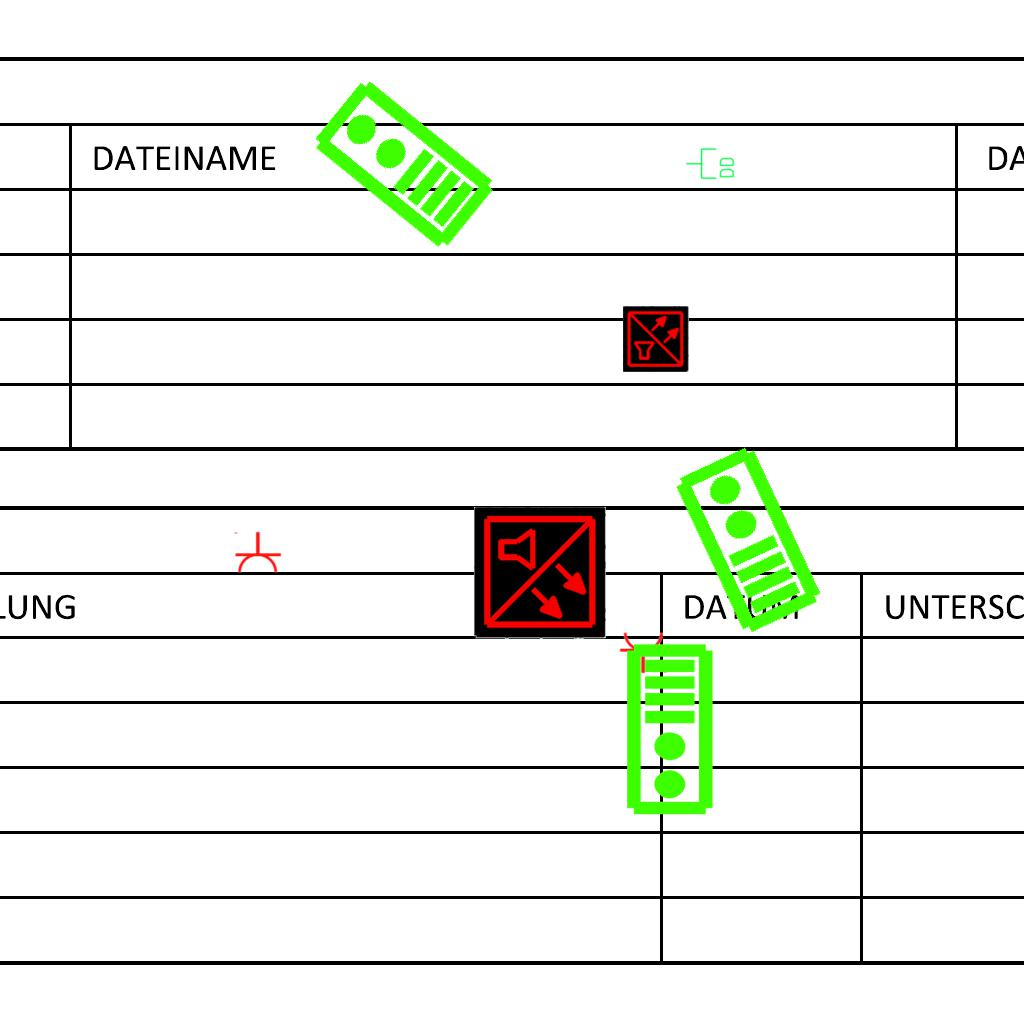Datenanschluss_zweifach: (685, 147, 736, 181)
Gegensprechanlage_mit_Video: (304, 72, 501, 258), (666, 440, 827, 640), (624, 642, 719, 818)
OKW_Multisensormelder_(Kombination_optischer_Rauch-Kahlenmonoxid_Waerme-Melder): (474, 507, 606, 639), (623, 306, 689, 372)
Schukosteckdose_einfach: (232, 531, 282, 574), (619, 631, 669, 674)
